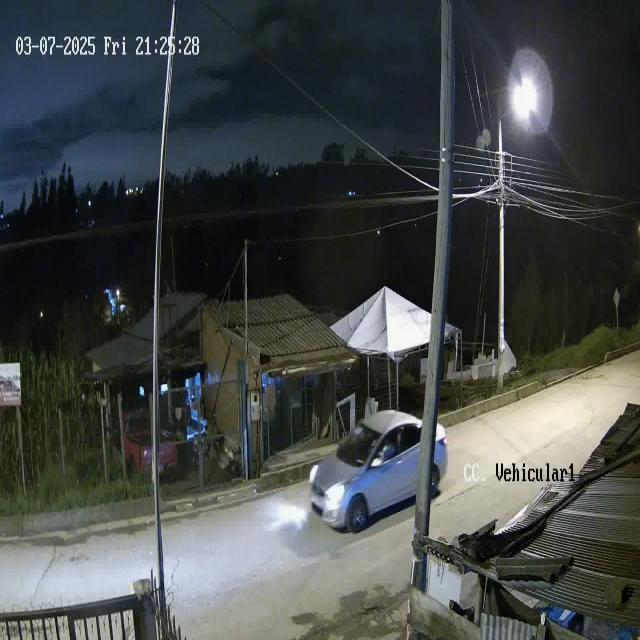SED: (306, 408, 451, 533)
